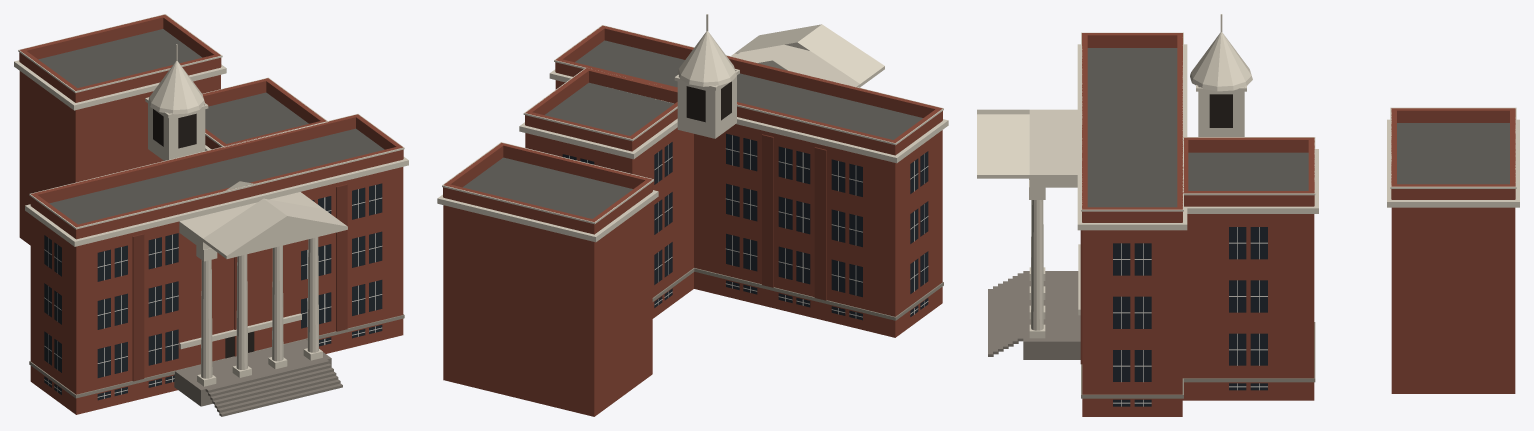
The model's file is arkansas-school-for-the-blind-1961.glb.
The picture shows the model from 3 angles, left to right: view 1: azimuth 30°, elevation 25°; view 2: azimuth 150°, elevation 25°; view 3: azimuth 270°, elevation 25°; orthographic projection. The views are drawn at different scales.
Visible parts, largest first — view 1: arkansas_brick, arkansas_trim, arkansas_tar, arkansas_glass, arkansas_base, arkansas_brick2, arkansas_sash, arkansas_dark, arkansas_stone; view 2: arkansas_brick, arkansas_trim, arkansas_tar, arkansas_glass, arkansas_brick2, arkansas_sash, arkansas_stone, arkansas_dark; view 3: arkansas_brick, arkansas_tar, arkansas_trim, arkansas_glass, arkansas_base, arkansas_stone, arkansas_sash, arkansas_dark.
Boxes of the visible parts, x1=… form: arkansas_brick: x1=19, y1=14, x2=403, y2=414; arkansas_trim: x1=14, y1=14, x2=408, y2=386; arkansas_tar: x1=38, y1=29, x2=384, y2=224; arkansas_glass: x1=44, y1=183, x2=382, y2=400; arkansas_base: x1=174, y1=339, x2=342, y2=416; arkansas_brick2: x1=132, y1=184, x2=347, y2=381; arkansas_sash: x1=44, y1=185, x2=382, y2=398; arkansas_dark: x1=153, y1=109, x2=254, y2=358; arkansas_stone: x1=29, y1=314, x2=404, y2=398; arkansas_brick: x1=443, y1=25, x2=942, y2=416; arkansas_trim: x1=437, y1=14, x2=948, y2=242; arkansas_tar: x1=463, y1=40, x2=922, y2=218; arkansas_glass: x1=562, y1=133, x2=928, y2=320; arkansas_brick2: x1=762, y1=134, x2=826, y2=300; arkansas_sash: x1=569, y1=135, x2=928, y2=318; arkansas_stone: x1=652, y1=268, x2=943, y2=320; arkansas_dark: x1=686, y1=81, x2=731, y2=122; arkansas_brick: x1=1082, y1=33, x2=1515, y2=416; arkansas_tar: x1=1087, y1=48, x2=1509, y2=207; arkansas_trim: x1=977, y1=14, x2=1519, y2=338; arkansas_glass: x1=1113, y1=227, x2=1267, y2=406; arkansas_base: x1=988, y1=271, x2=1080, y2=359; arkansas_stone: x1=1081, y1=322, x2=1315, y2=398; arkansas_sash: x1=1113, y1=227, x2=1267, y2=406; arkansas_dark: x1=1209, y1=94, x2=1232, y2=127.
Bounding box in the file's own units: 27.6 × 22.43 × 35.1.
